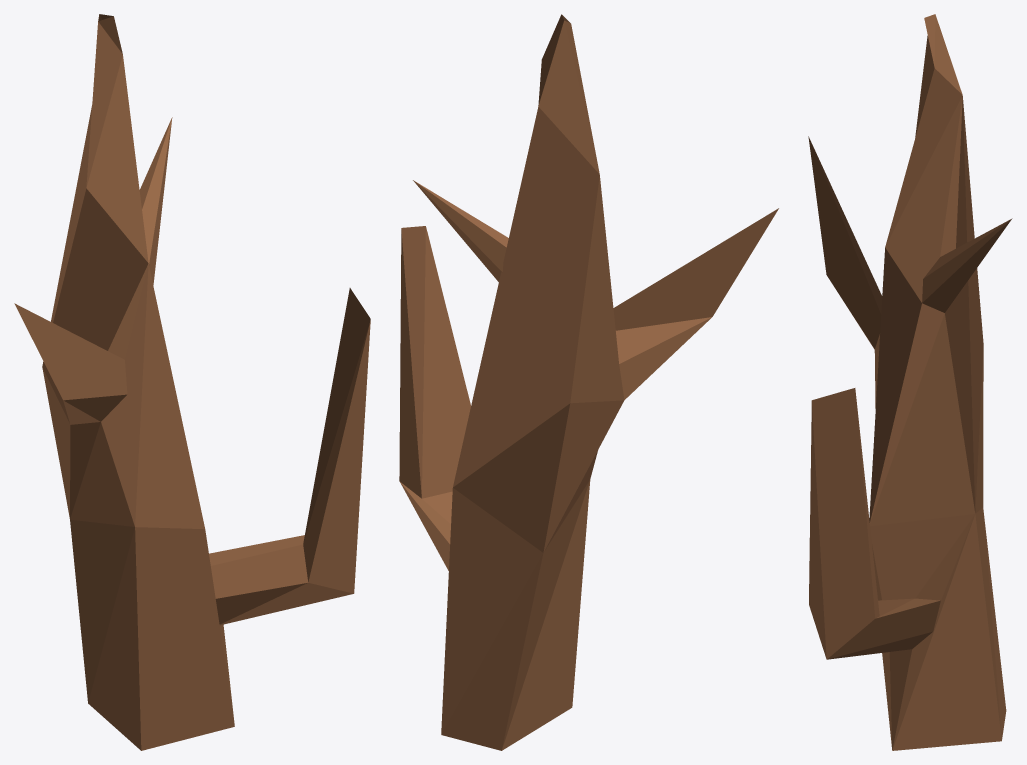
The model's file is tree-summer-trunk-040.glb.
The picture shows the model from 3 angles, left to right: view 1: azimuth 30°, elevation 25°; view 2: azimuth 150°, elevation 25°; view 3: azimuth 270°, elevation 25°; orthographic projection. The views are drawn at different scales.
Parts seen in each view (by area): view 1: Circle.003_304; view 2: Circle.003_304; view 3: Circle.003_304.
Boxes of the visible parts, x1,y1,x2,y2 form: Circle.003_304: (14, 14, 370, 750); Circle.003_304: (399, 14, 778, 750); Circle.003_304: (808, 14, 1012, 750).
Size of the model in its own units: 0.4485 by 0.8613 by 0.2326.
